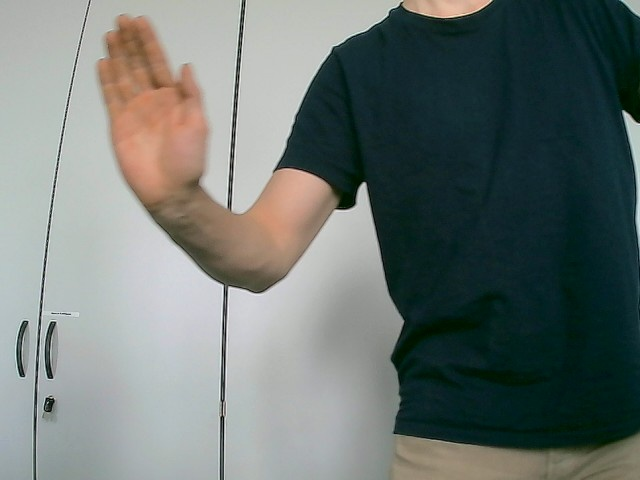stop: (95, 12, 211, 207)
